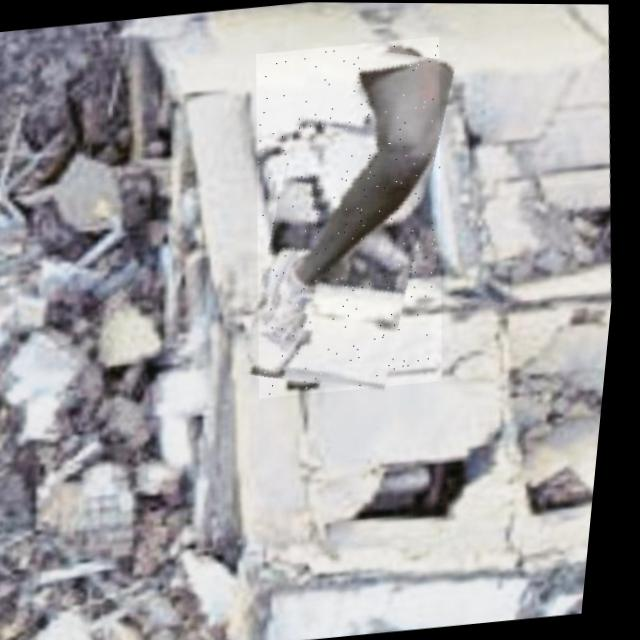Person in Rubble: (230, 35, 475, 399)
